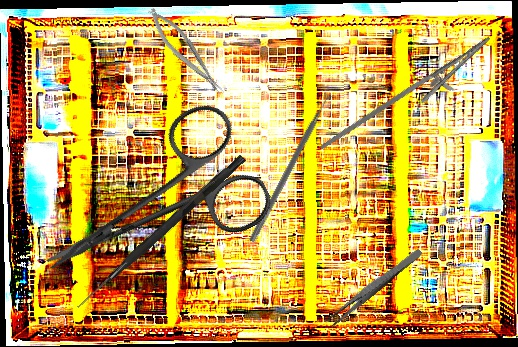Dressing Forceps: (325, 245, 424, 329)
Hook Surgical: (75, 152, 246, 313)
Iris Scissors: (14, 94, 280, 320)
Needle Holder: (318, 16, 502, 181), (142, 1, 229, 103)
Spatula Surgical: (248, 89, 338, 247)
